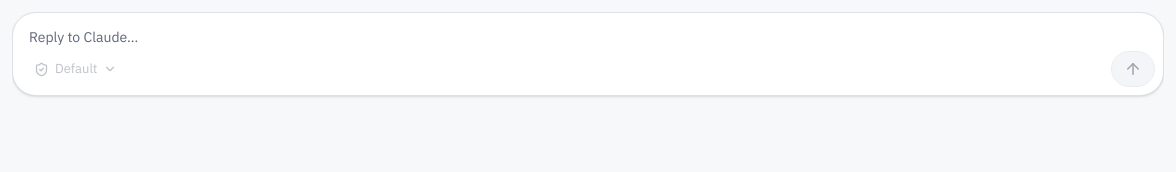
T041 posts a guarded machine-scoped reply and shows Queued
Type "Fixture reply" into the text box named "Reply to session". click: (588, 32)
box: [13,13,1163,51]
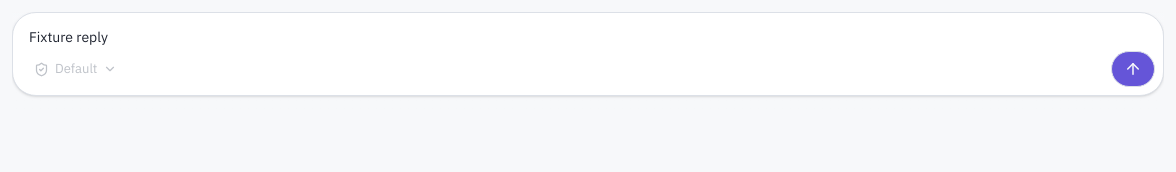
Click the button named "Send". click: (1133, 69)
box: [1111,51,1155,87]
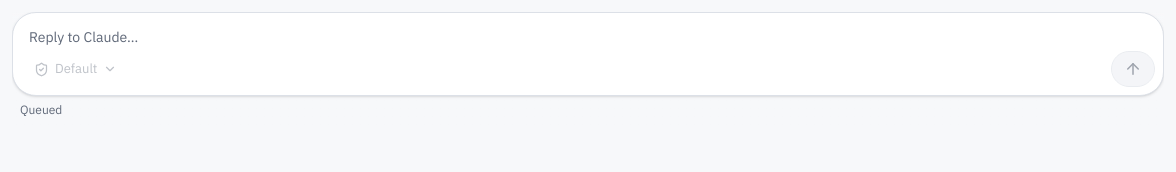
Result: the text "Queued" is shown at [20,102,62,117]
Result: the text box is empty at [13,13,1163,51]
